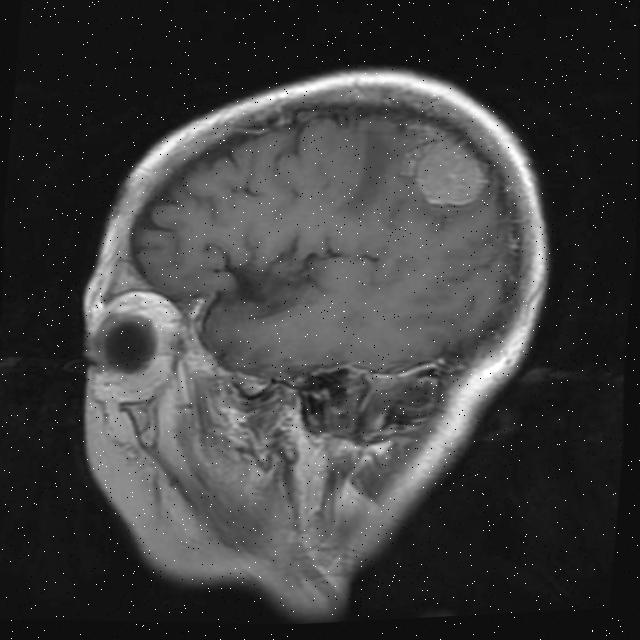Meningioma: (410, 134, 492, 209)
